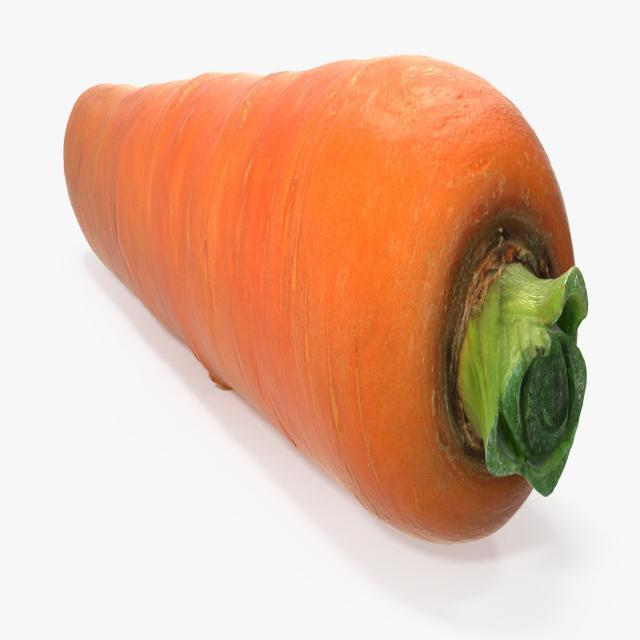carrot: (58, 53, 595, 553)
